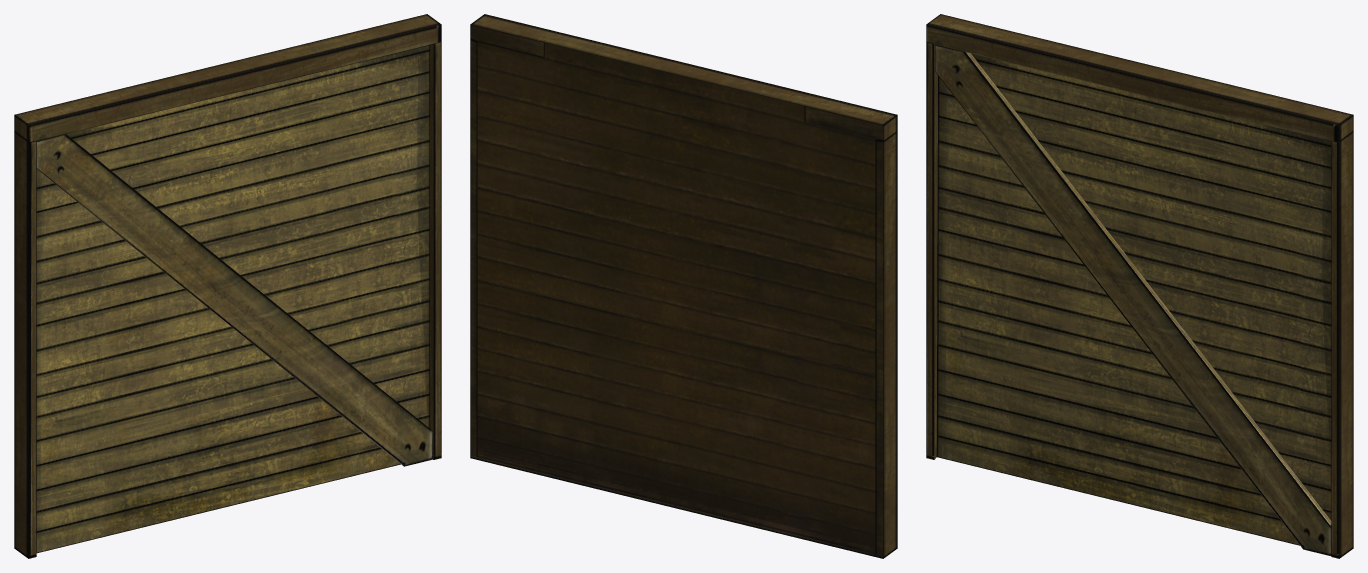
Rendered from SheriffOffice_Right.obj.
3 renders of one model, left to right at view 1: azimuth 30°, elevation 25°; view 2: azimuth 150°, elevation 25°; view 3: azimuth 330°, elevation 25°, orthographic.
Parts seen in each view (by area): view 1: Model_SheriffOffice_Right; view 2: Model_SheriffOffice_Right; view 3: Model_SheriffOffice_Right.
Part boxes in pixels (left/top/right/bottom): Model_SheriffOffice_Right: left=14, top=14, right=441, bottom=558; Model_SheriffOffice_Right: left=470, top=14, right=897, bottom=558; Model_SheriffOffice_Right: left=926, top=14, right=1353, bottom=558.
Bounding box in the file's own units: 4.4 × 4.42 × 0.28.
1 material, 1 textured.
